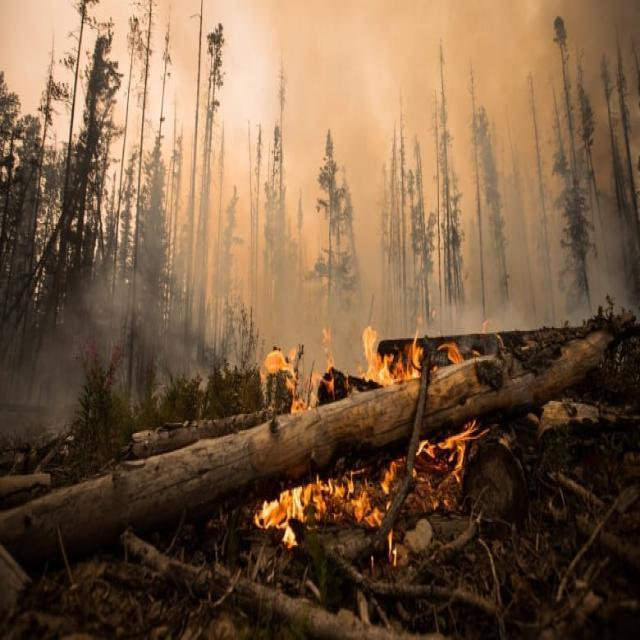Fire: (262, 316, 478, 415), (254, 454, 398, 550), (418, 415, 491, 483)
Smoke: (9, 202, 254, 438), (272, 0, 404, 379), (417, 135, 640, 333)
